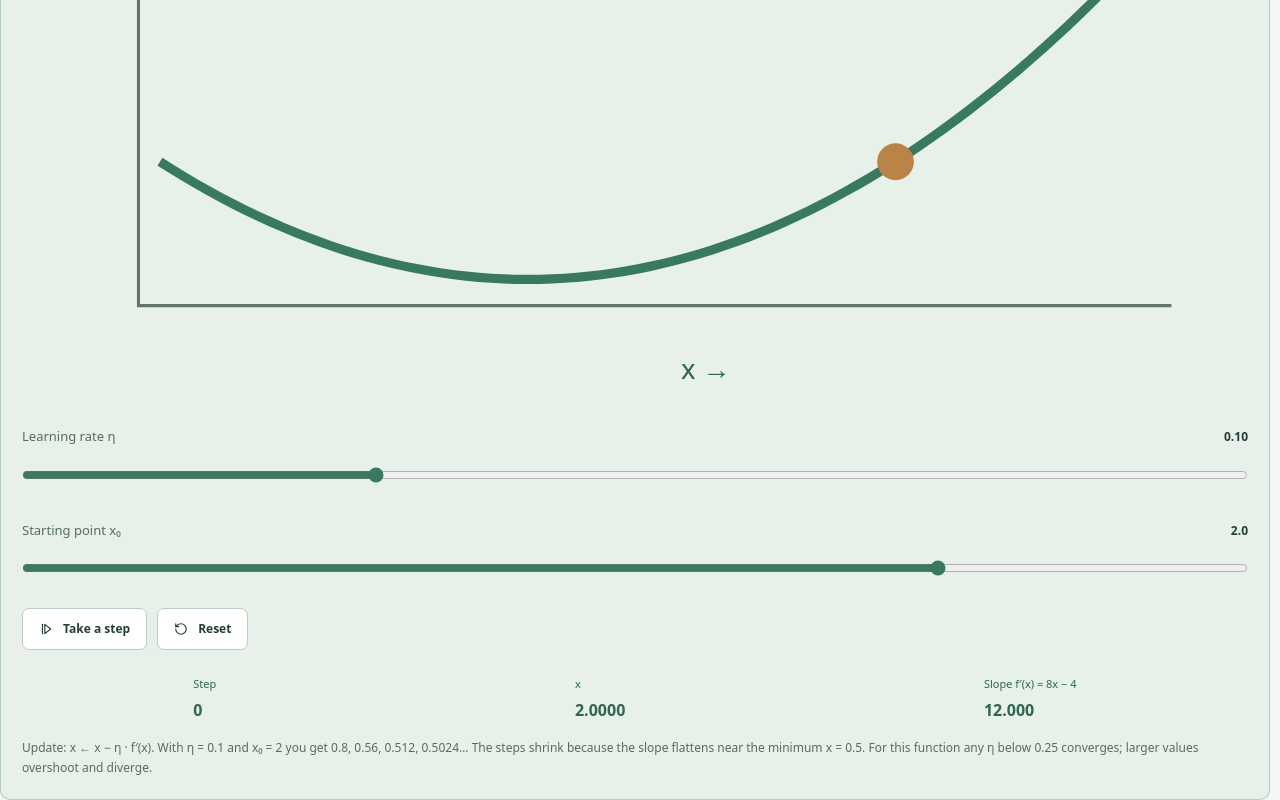
ML illustrations render and respond › takes gradient-descent steps
This screenshot has width=1280, height=800.
(page scrolled)
Click the button "Take a step".
click(85, 629)  # box [22,608,147,650]
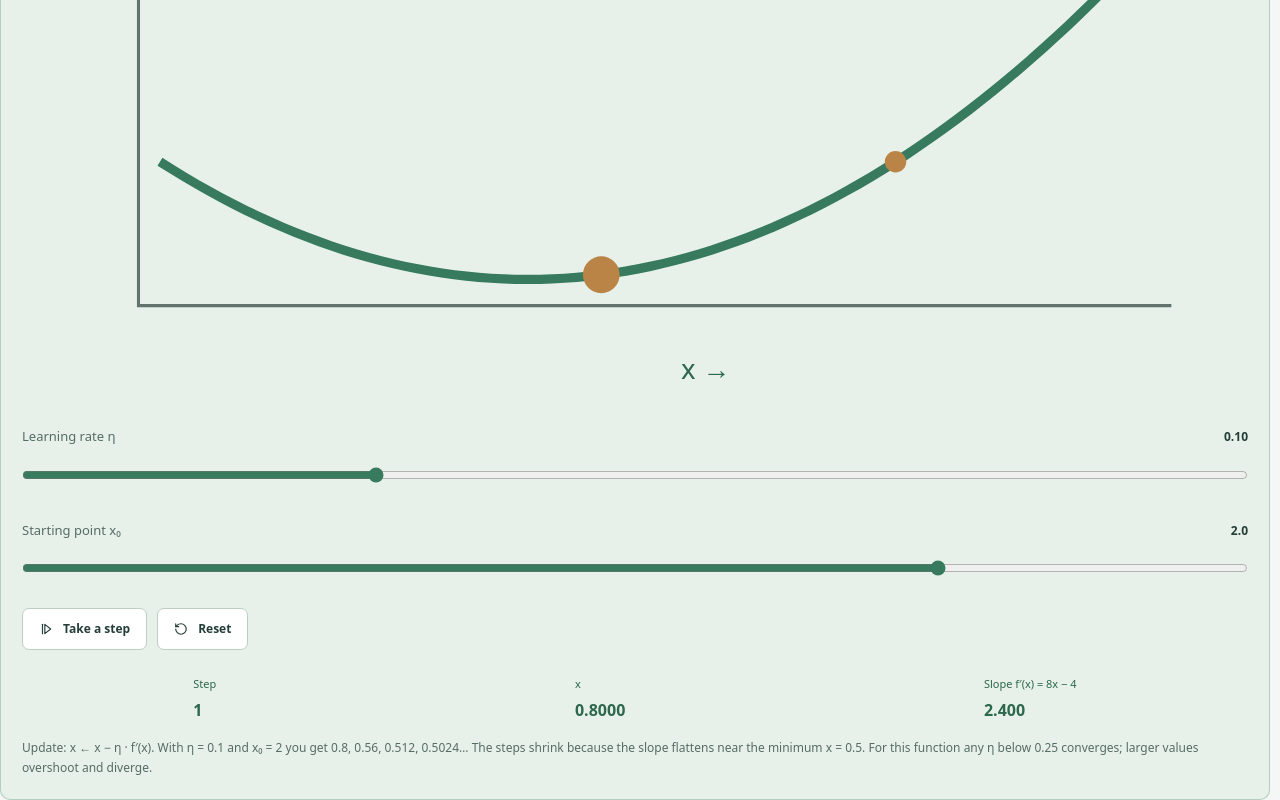
Expected: the text "0.8000" is shown, [575,698,625,722]
